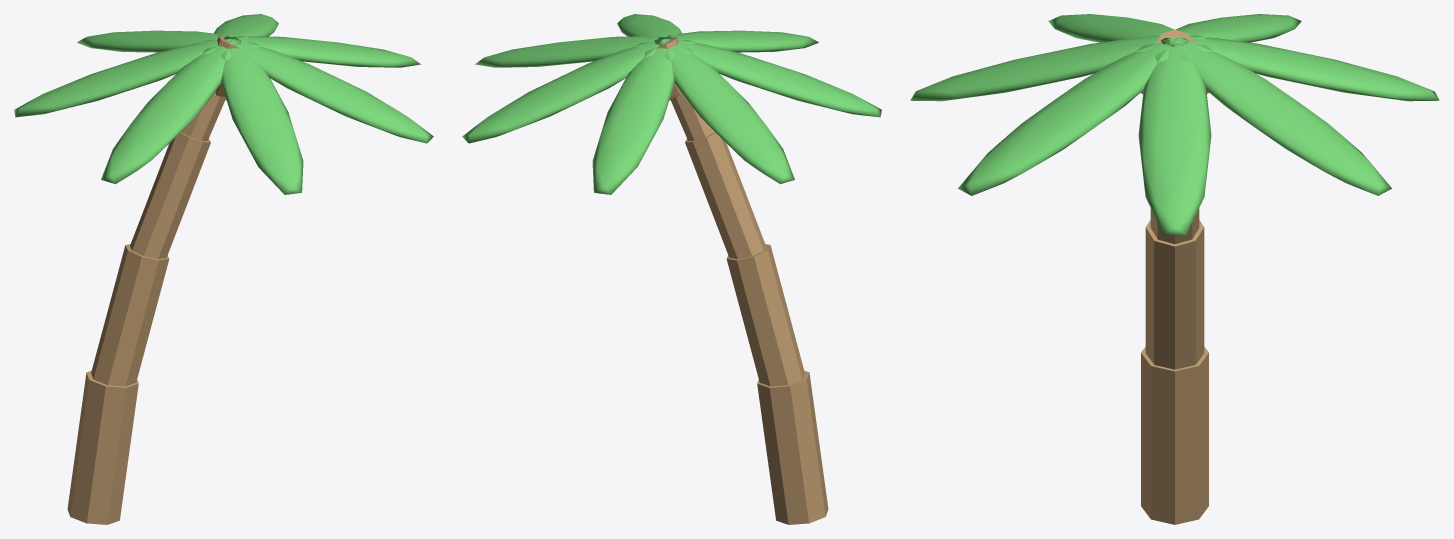
The model's file is PalmTree.fbx.
The picture shows the model from 3 angles, left to right: view 1: azimuth 30°, elevation 25°; view 2: azimuth 150°, elevation 25°; view 3: azimuth 270°, elevation 25°; orthographic projection. The views are drawn at different scales.
Parts seen in each view (by area): view 1: Leaves, Trunk; view 2: Leaves, Trunk; view 3: Leaves, Trunk.
Boxes of the visible parts, <box> form: Leaves: <box>14,14,433,194</box>; Trunk: <box>67,36,239,524</box>; Leaves: <box>462,14,881,194</box>; Trunk: <box>656,36,828,524</box>; Leaves: <box>910,14,1439,234</box>; Trunk: <box>1140,29,1209,524</box>.
Size of the model in its own units: 6.37 by 7.61 by 6.53.
